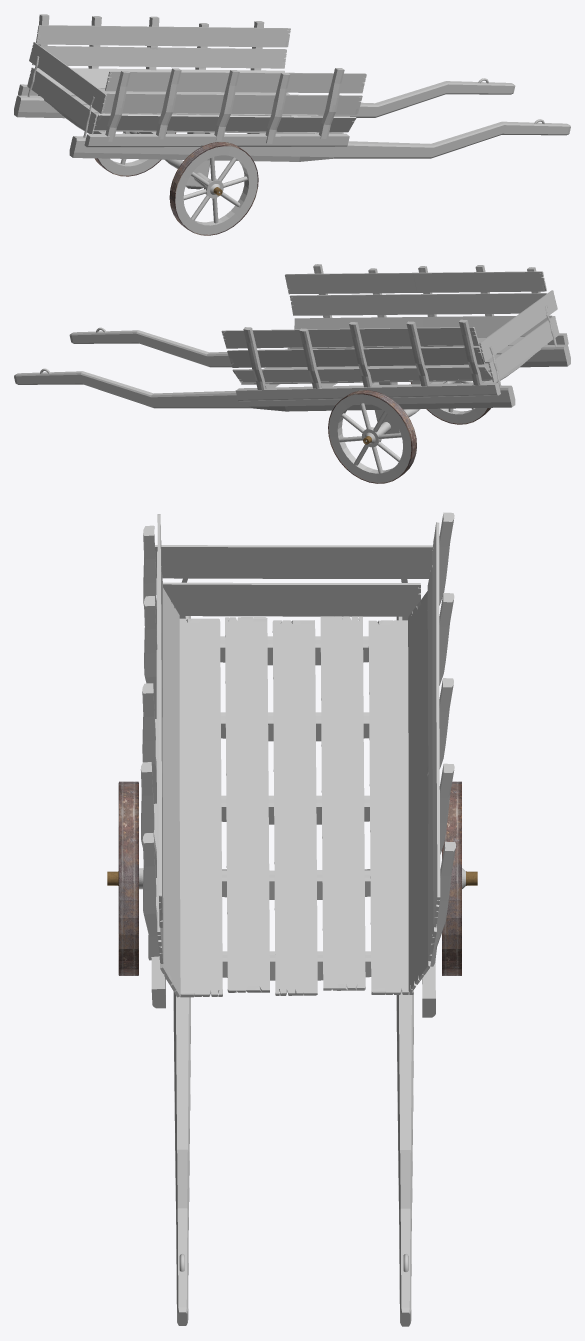
The model's file is Wooden_Cart_C.obj.
3 renders of one model, top to bottom at view 1: azimuth 30°, elevation 25°; view 2: azimuth 150°, elevation 25°; view 3: azimuth 270°, elevation 25°, orthographic. The views are drawn at different scales.
Visible parts, largest first — view 1: Cube.062_Cube.054, Cube.063_Cube.054, Cube.009_Cube.058, Cylinder.026_Cylinder.068, Cylinder.021_Cylinder.065, Cube.051_Cube.052, Cube.064_Cube.055, Cylinder.027_Cylinder.069, Cylinder.029_Cylinder.070, Cube.052_Cube.053, Cube.054_Cube.053, Cube.053 (+4 smaller); view 2: Cube.062_Cube.054, Cube.063_Cube.054, Cube.009_Cube.058, Cylinder.026_Cylinder.068, Cube.051_Cube.052, Cylinder.029_Cylinder.070, Cube.064_Cube.055, Cylinder.028_Cylinder.069, Cylinder.021_Cylinder.065, Cube.057_Cube.053, Cube.060_Cube.053, Cube.058_Cube.053 (+4 smaller); view 3: Cube.064_Cube.055, Cylinder.026_Cylinder.068, Cube.063_Cube.054, Cube.009_Cube.058, Cube.062_Cube.054, Cylinder.021_Cylinder.065, Cube.049_Cube.050, Cylinder.029_Cylinder.070, Cube.051_Cube.052, Cube.052_Cube.053, Cube.053, Cube.054_Cube.053 (+2 smaller).
Boxes of the visible parts, bbox=[...] form: Cube.062_Cube.054: bbox=[94, 71, 366, 132]; Cube.063_Cube.054: bbox=[32, 25, 290, 88]; Cube.009_Cube.058: bbox=[14, 78, 570, 161]; Cylinder.026_Cylinder.068: bbox=[27, 42, 106, 137]; Cylinder.021_Cylinder.065: bbox=[169, 142, 258, 235]; Cube.051_Cube.052: bbox=[18, 84, 349, 147]; Cube.064_Cube.055: bbox=[61, 87, 343, 133]; Cylinder.027_Cylinder.069: bbox=[183, 157, 247, 223]; Cylinder.029_Cylinder.070: bbox=[94, 132, 176, 176]; Cube.052_Cube.053: bbox=[319, 68, 344, 138]; Cube.054_Cube.053: bbox=[156, 68, 181, 139]; Cube.053: bbox=[214, 70, 239, 140]; Cube.062_Cube.054: bbox=[285, 271, 552, 337]; Cube.063_Cube.054: bbox=[221, 327, 492, 382]; Cube.009_Cube.058: bbox=[14, 327, 570, 411]; Cylinder.026_Cylinder.068: bbox=[479, 290, 559, 387]; Cube.051_Cube.052: bbox=[236, 333, 568, 401]; Cylinder.029_Cylinder.070: bbox=[328, 390, 416, 483]; Cube.064_Cube.055: bbox=[241, 337, 523, 384]; Cylinder.028_Cylinder.069: bbox=[339, 403, 401, 473]; Cylinder.021_Cylinder.065: bbox=[410, 382, 490, 424]; Cube.057_Cube.053: bbox=[459, 319, 482, 385]; Cube.060_Cube.053: bbox=[406, 321, 429, 386]; Cube.058_Cube.053: bbox=[349, 322, 372, 387]; Cube.064_Cube.055: bbox=[179, 616, 413, 997]; Cylinder.026_Cylinder.068: bbox=[155, 545, 432, 620]; Cube.063_Cube.054: bbox=[408, 522, 440, 992]; Cube.009_Cube.058: bbox=[173, 616, 413, 1326]; Cube.062_Cube.054: bbox=[156, 514, 180, 997]; Cylinder.021_Cylinder.065: bbox=[118, 781, 138, 975]; Cube.049_Cube.050: bbox=[220, 636, 371, 980]; Cylinder.029_Cylinder.070: bbox=[442, 781, 461, 975]; Cube.051_Cube.052: bbox=[151, 719, 435, 1017]; Cube.052_Cube.053: bbox=[142, 832, 159, 960]; Cube.053: bbox=[142, 683, 156, 803]; Cube.054_Cube.053: bbox=[144, 596, 157, 718].
Size of the model in its own units: 2.93 by 1.03 by 0.9437.
